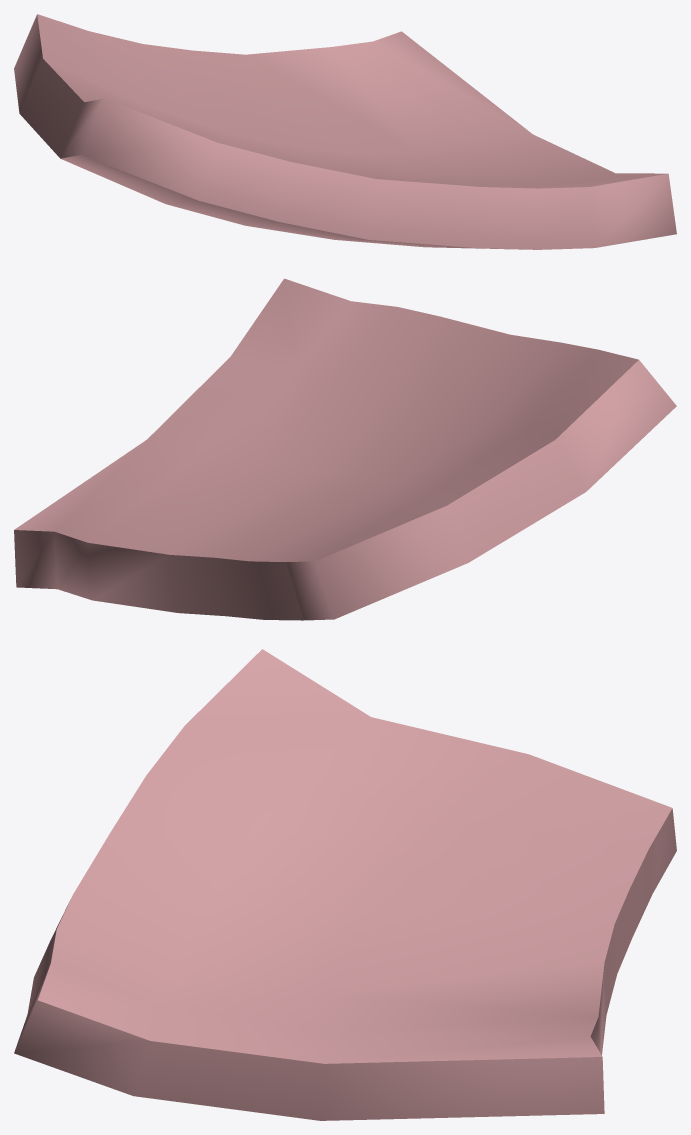
3 renders of one model, top to bottom at view 1: azimuth 30°, elevation 25°; view 2: azimuth 150°, elevation 25°; view 3: azimuth 270°, elevation 25°, orthographic. The views are drawn at different scales.
Visible parts, largest first — view 1: ZA_48617d3be7cf13e8; view 2: ZA_48617d3be7cf13e8; view 3: ZA_48617d3be7cf13e8.
Part boxes in pixels (x1=…): ZA_48617d3be7cf13e8: x1=14, y1=14, x2=676, y2=249; ZA_48617d3be7cf13e8: x1=14, y1=278, x2=676, y2=620; ZA_48617d3be7cf13e8: x1=14, y1=649, x2=676, y2=1120.
Bounding box in the file's own units: 0.0276 × 0.0121 × 0.0307.
